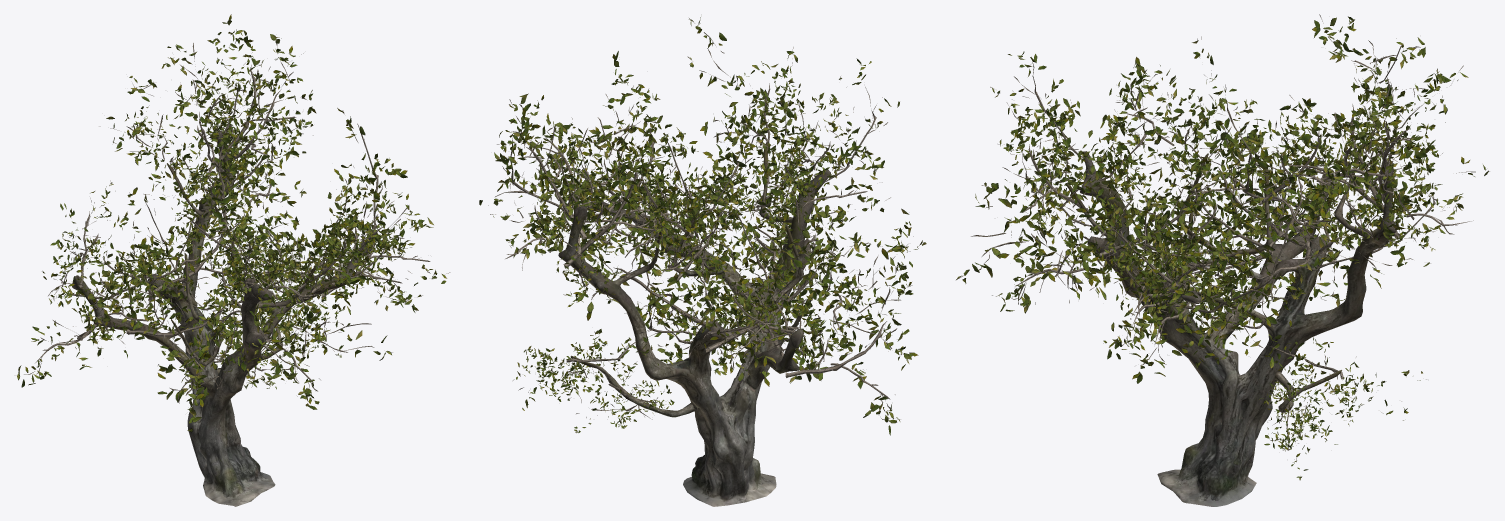
Rendered from tree2.glb.
3 renders of one model, left to right at view 1: azimuth 30°, elevation 25°; view 2: azimuth 150°, elevation 25°; view 3: azimuth 270°, elevation 25°, orthographic. The views are drawn at different scales.
Visible parts, largest first — view 1: island_tree_01_LOD0; view 2: island_tree_01_LOD0; view 3: island_tree_01_LOD0.
Boxes of the visible parts, left/top/right/bottom form: island_tree_01_LOD0: left=17, top=14, right=450, bottom=506; island_tree_01_LOD0: left=479, top=17, right=926, bottom=506; island_tree_01_LOD0: left=956, top=14, right=1489, bottom=506.
Size of the model in its own units: 4.8 by 4.98 by 4.83.
3 materials, 3 textured.
